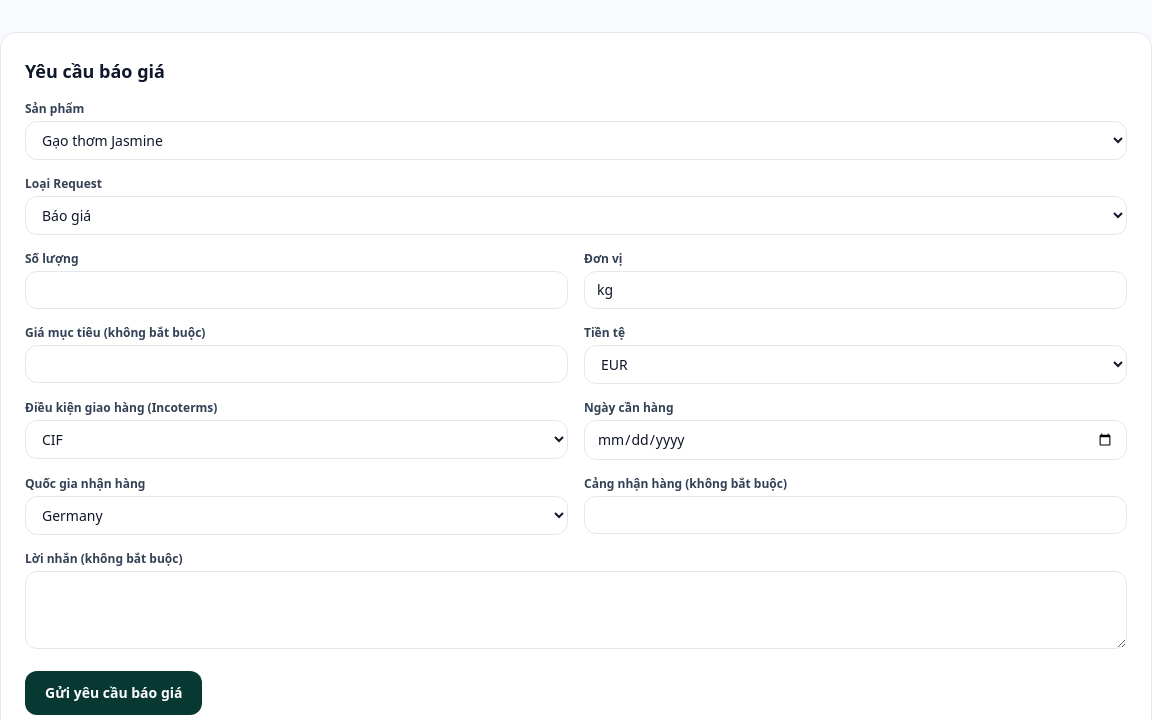
Form yêu cầu báo giá (F1) › số lượng "" bị chặn trước khi gọi API
Type "2099-01-01" into the date field labelled "Ngày cần hàng" at (856, 440), box [584,420,1127,460]
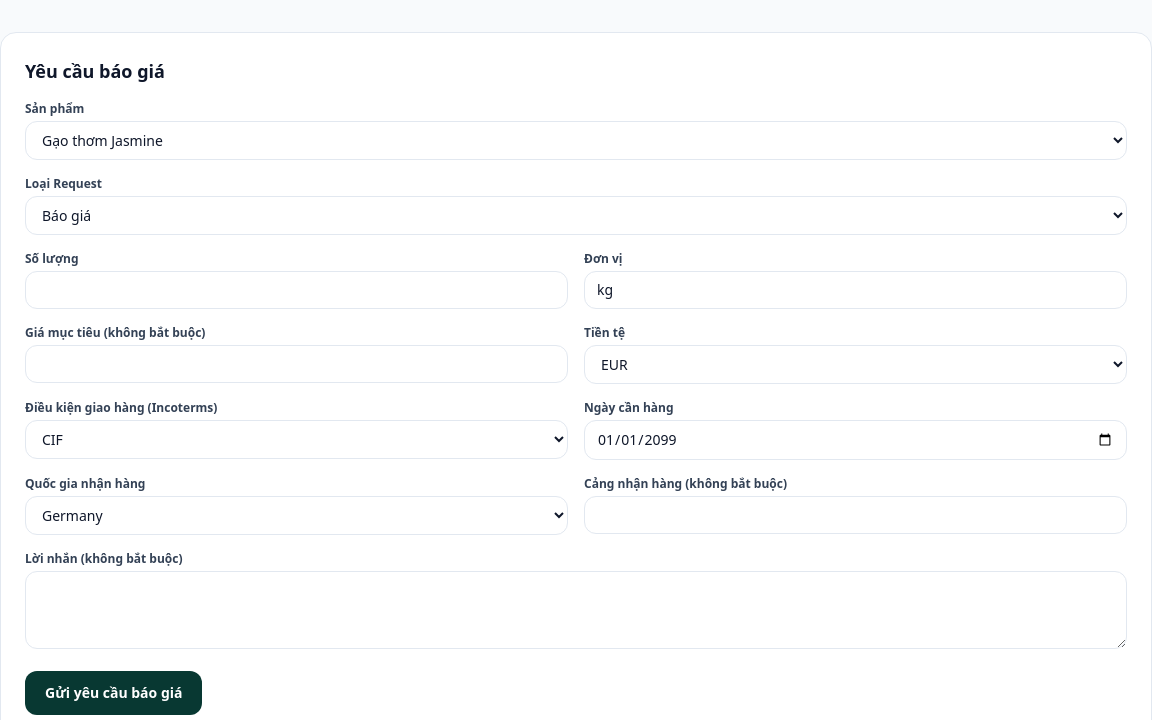
Click the button "Gửi yêu cầu báo giá" at (114, 693), box [25,671,202,715]
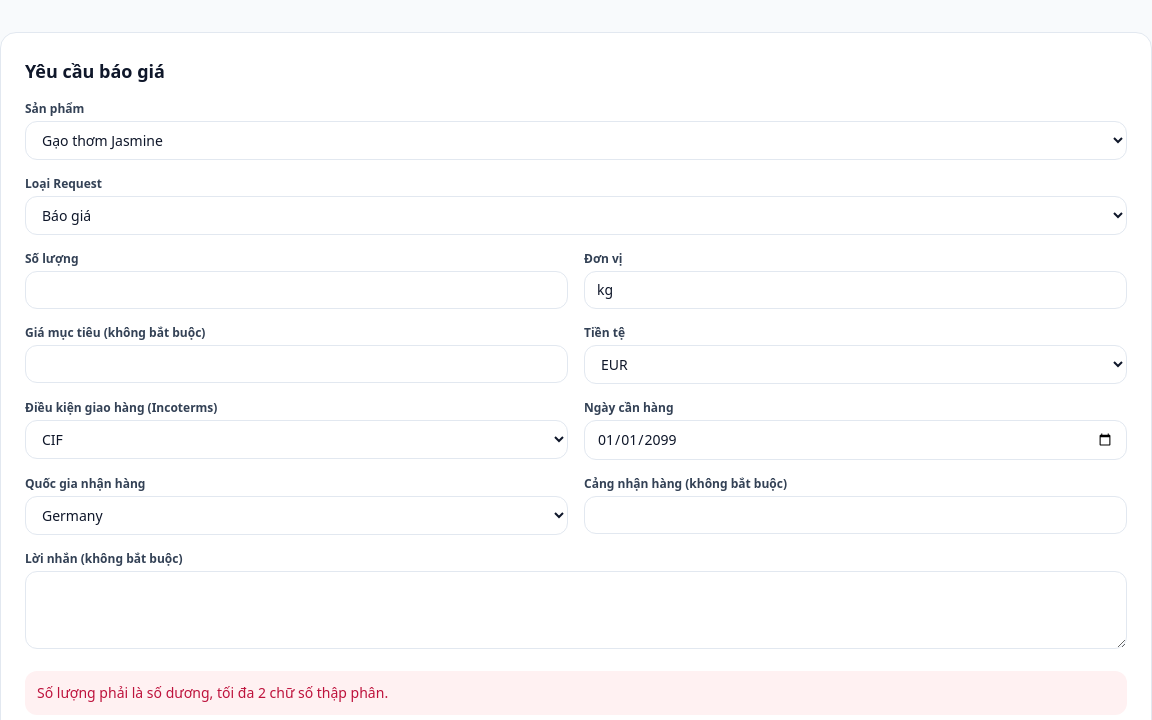
Check: the message shows "Số lượng phải là số dương", box [37,683,388,702]
